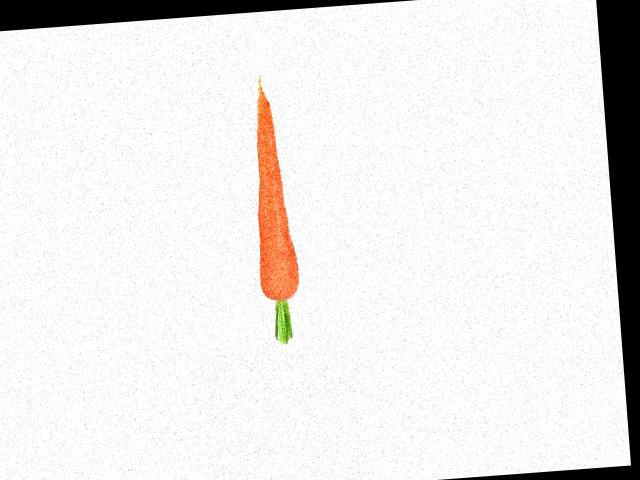carrot: (238, 75, 309, 308)
